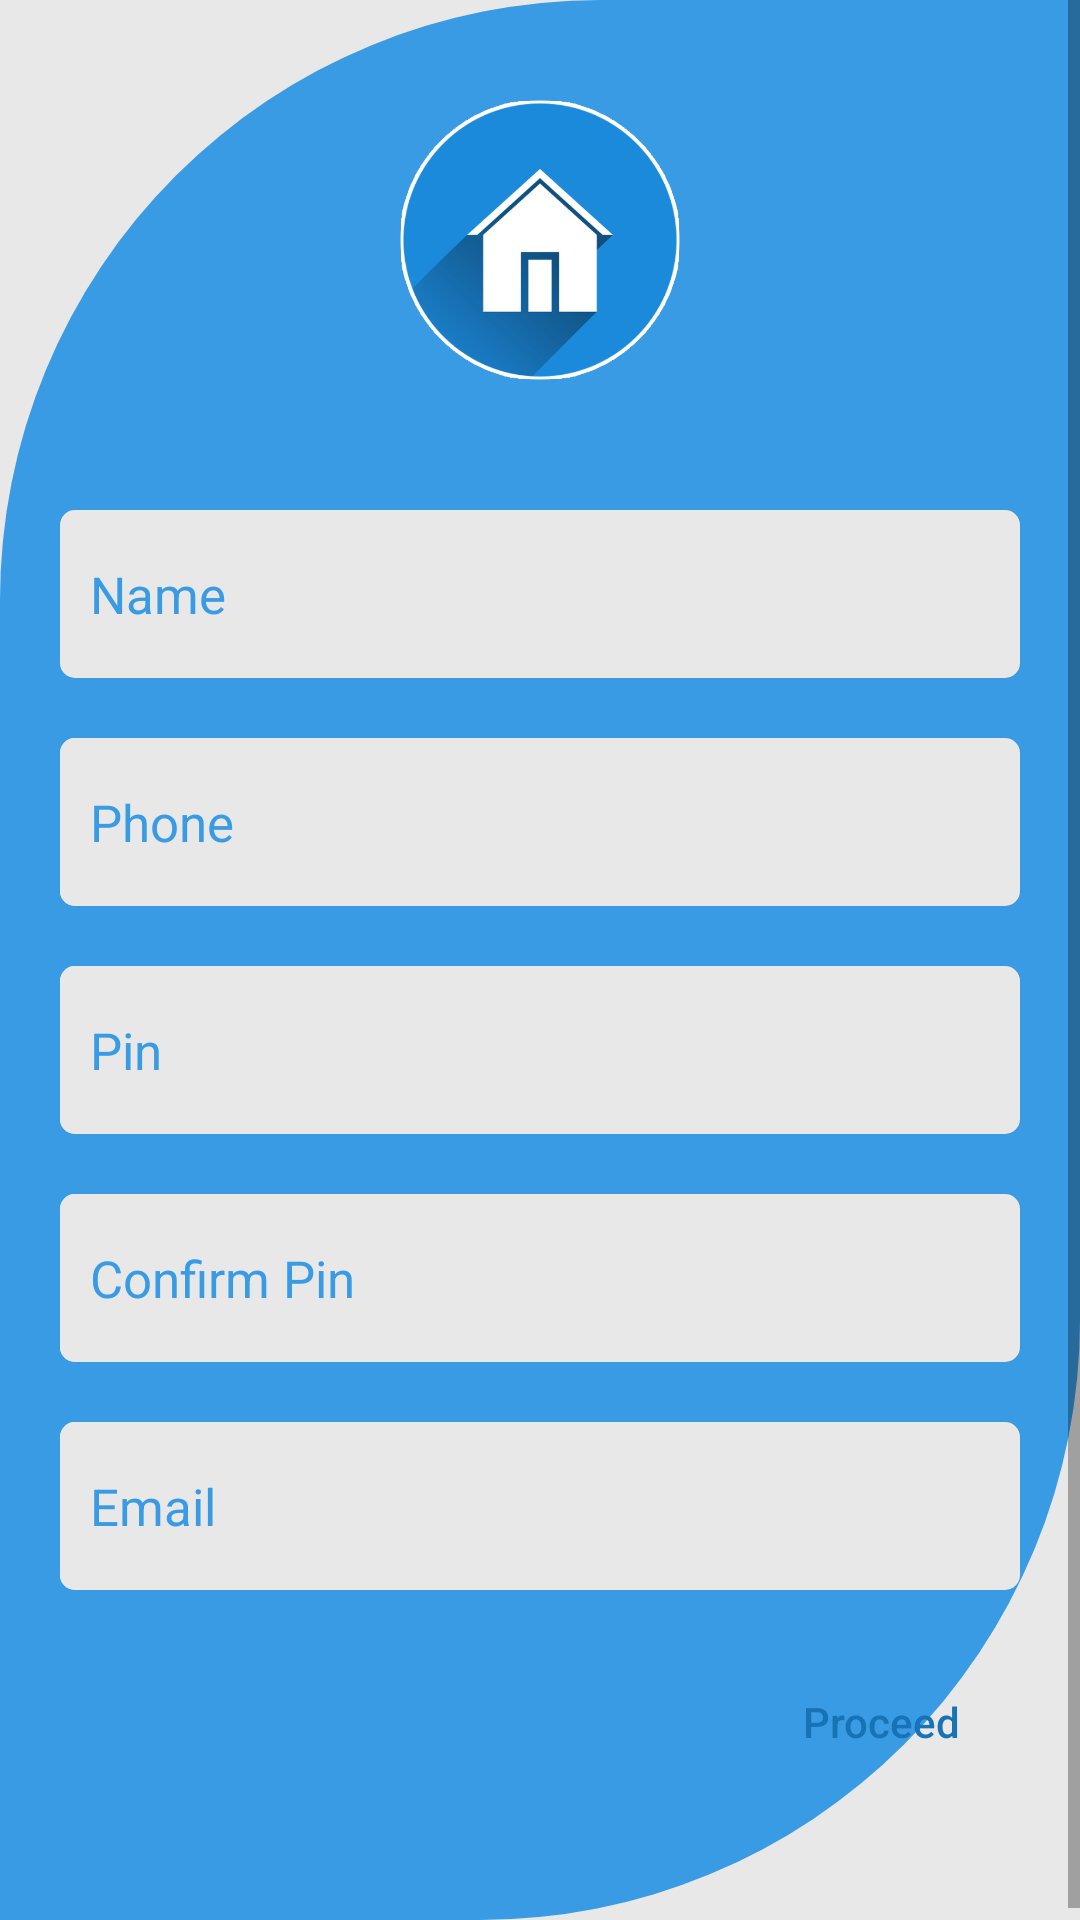

Named icons in this screenshot (1080 × 1920) and their bounding boxes, rect(x1, y1, x2, y2):
main: rect(400, 100, 680, 380)
